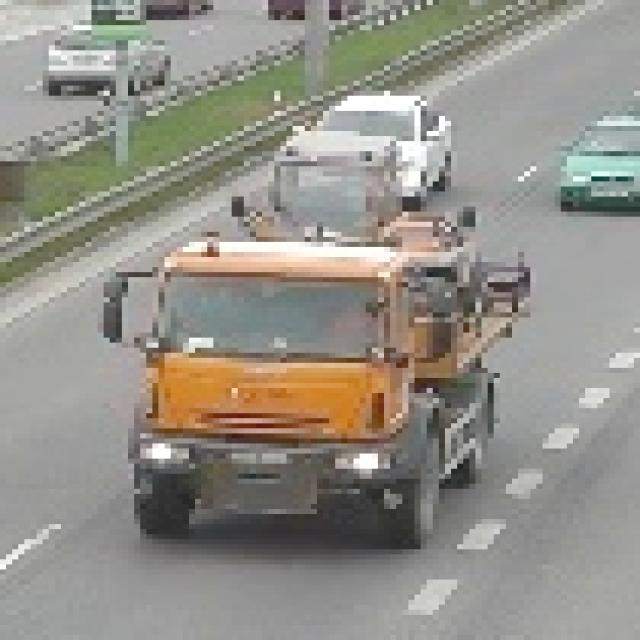truck: (99, 203, 532, 540)
